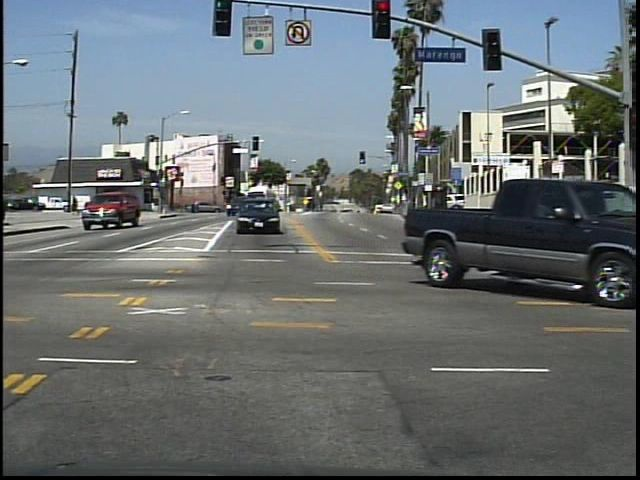person: (69, 192, 83, 218)
